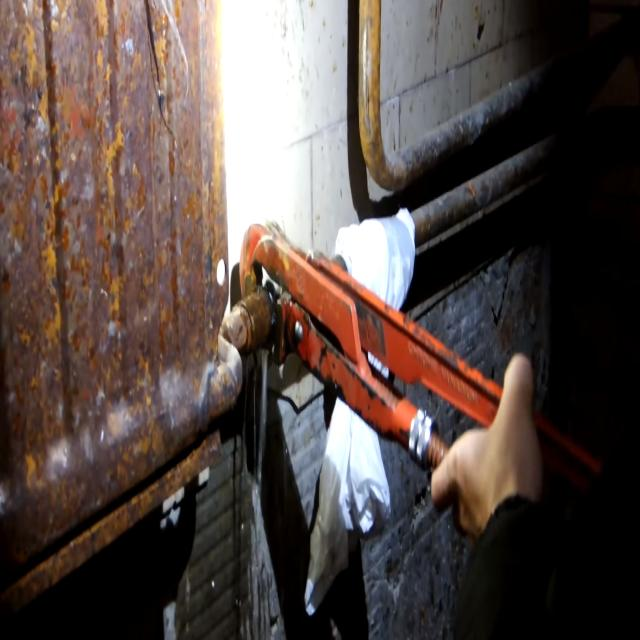leak: (252, 348, 269, 535)
